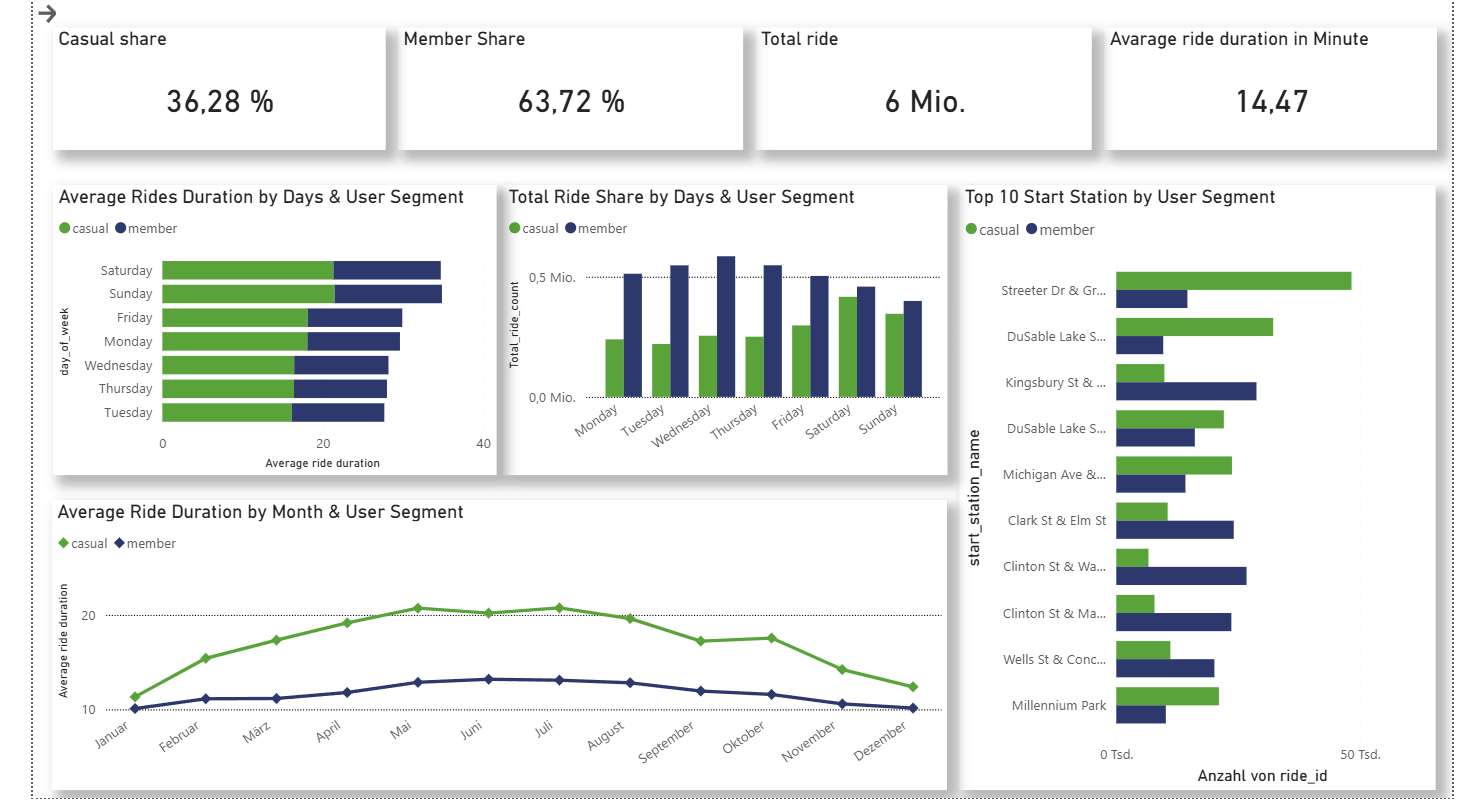

Layout of this report page (visuals, bound fields, positions):
{"tool":"powerbi","page":{"name":"Dashboard_overview","canvas":[1280,720],"ordinal":0},"visuals":[{"type":"clusteredBarChart","title":"Top 10 Start Station by User Segment","fields":{"Category":["cleaned_data.start_station_name"],"Series":["cleaned_data.member_casual"],"Y":["CountNonNull(cleaned_data.ride_id)"]},"box":[835.2,166.8,429.4,545.5],"z":3000},{"type":"lineChart","title":"Average Ride Duration by Month & User Segment","fields":{"Category":["cleaned_data.date.Variation.Datumshierarchie.Monat"],"Series":["cleaned_data.member_casual"],"Y":["cleaned_data.Average ride duration"]},"box":[17.4,450.3,807.3,261.2],"z":4000},{"type":"clusteredColumnChart","title":"Total Ride Share by Days & User Segment","fields":{"Category":["cleaned_data.day_of_week"],"Series":["cleaned_data.member_casual"],"Y":["cleaned_data.Total_ride_count"]},"box":[424.2,166.7,400.6,261.2],"z":6000},{"type":"barChart","title":"Average Rides Duration by Days & User Segment","fields":{"Category":["cleaned_data.day_of_week"],"Series":["cleaned_data.member_casual"],"Y":["cleaned_data.Average ride duration"]},"box":[18,166.8,400.1,261.5],"z":6062},{"type":"card","title":"Avarage ride duration in Minute","fields":{"Values":["cleaned_data.Average ride duration"]},"box":[965.9,24.8,299.8,110.5],"z":6125},{"type":"card","title":"Total ride","fields":{"Values":["cleaned_data.Total_ride_count"]},"box":[651.5,24.8,303.2,110.5],"z":6250},{"type":"card","title":"Member Share","fields":{"Values":["cleaned_data.Member_%"]},"box":[329.1,24.8,311.1,110.5],"z":6500},{"type":"card","title":"Casual share","fields":{"Values":["cleaned_data.Casual_%"]},"box":[18,24.8,299.8,110.5],"z":7000},{"type":"actionButton","box":[0,0,85.8,24.9],"z":7001}]}

Visuals, with their boxes in screenshot pixels (x1, y1, x2, y2), scaled from the page's 1280x720 canvas onto the 1461x802 screenshot:
"Top 10 Start Station by User Segment" clusteredBarChart: (x1=953, y1=186, x2=1443, y2=793)
"Average Ride Duration by Month & User Segment" lineChart: (x1=20, y1=502, x2=941, y2=793)
"Total Ride Share by Days & User Segment" clusteredColumnChart: (x1=484, y1=186, x2=941, y2=477)
"Average Rides Duration by Days & User Segment" barChart: (x1=21, y1=186, x2=477, y2=477)
"Avarage ride duration in Minute" card: (x1=1102, y1=28, x2=1445, y2=151)
"Total ride" card: (x1=744, y1=28, x2=1090, y2=151)
"Member Share" card: (x1=376, y1=28, x2=731, y2=151)
"Casual share" card: (x1=21, y1=28, x2=363, y2=151)
actionButton: (x1=0, y1=0, x2=98, y2=28)
